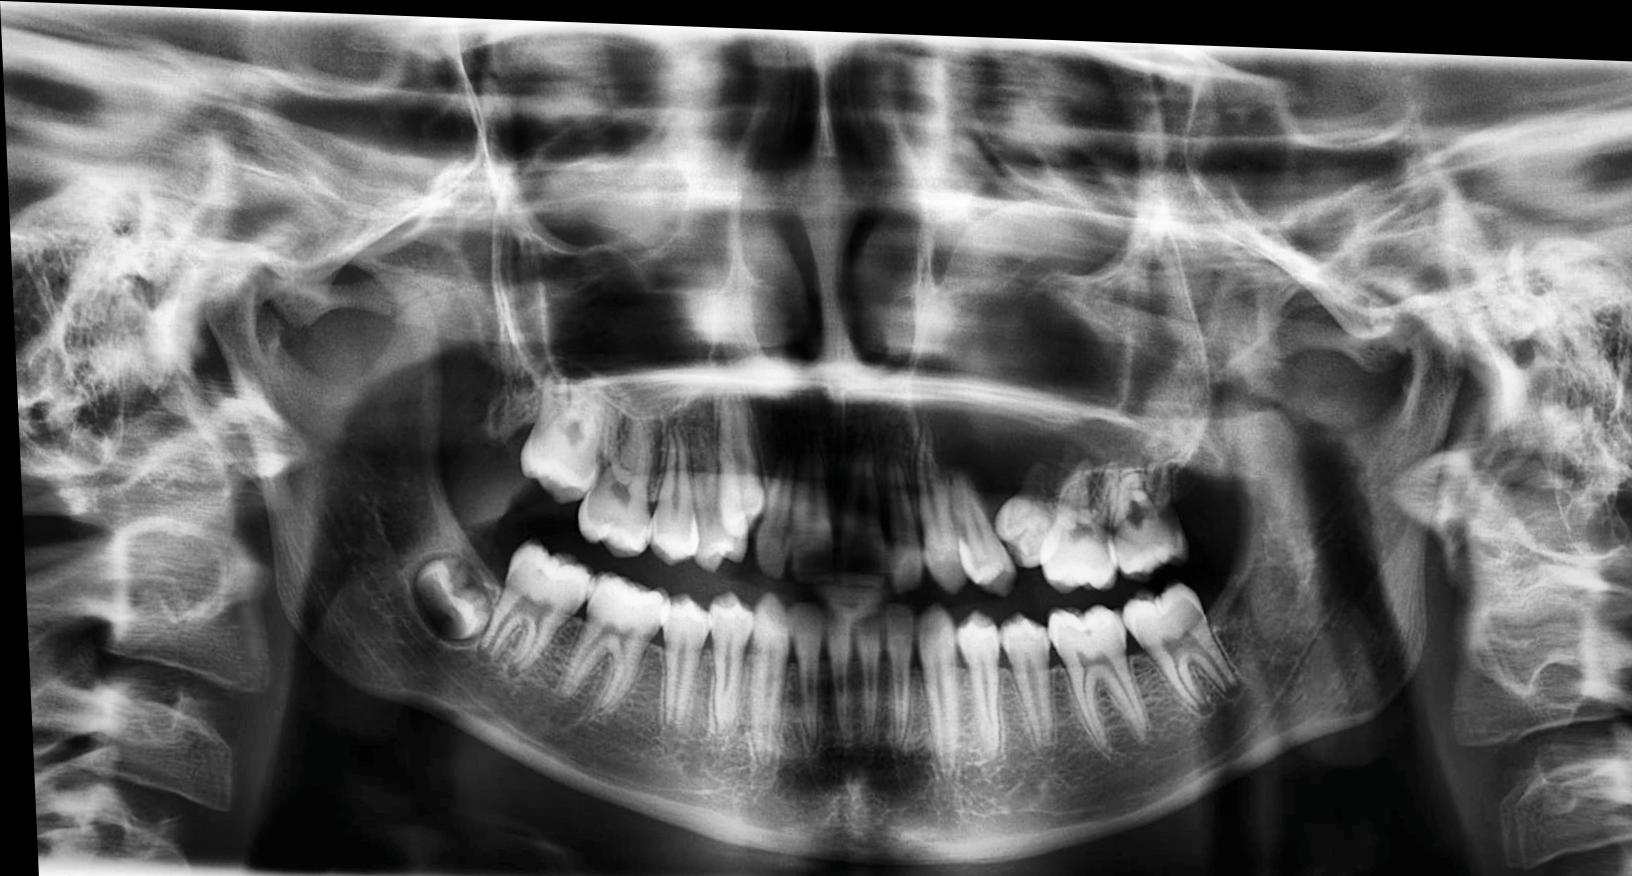radikuler: (895, 184, 1210, 496)
